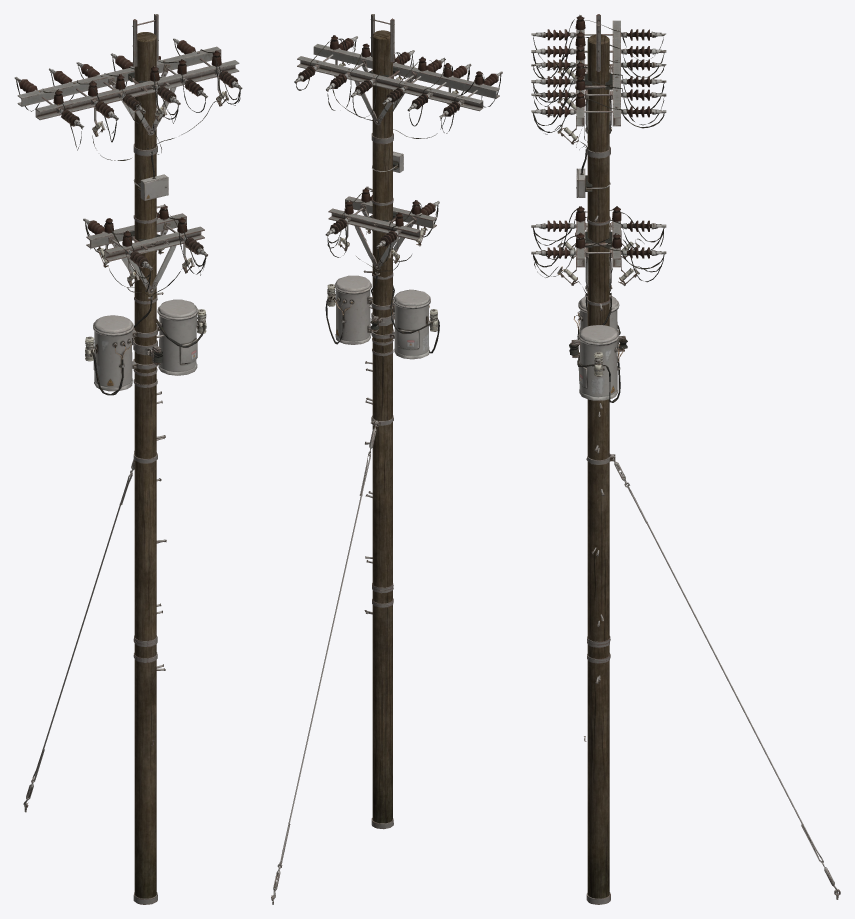
The model's file is modular_electricity_poles.glb.
The picture shows the model from 3 angles, left to right: view 1: azimuth 30°, elevation 25°; view 2: azimuth 150°, elevation 25°; view 3: azimuth 270°, elevation 25°; orthographic projection. The views are drawn at different scales.
Parts seen in each view (by area): view 1: pole_transformer_LOD0, pole_offset_LOD0, pole_plain_LOD0; view 2: pole_transformer_LOD0, pole_offset_LOD0, pole_plain_LOD0; view 3: pole_transformer_LOD0, pole_offset_LOD0, pole_plain_LOD0.
Boxes of the visible parts, x1=… form: pole_transformer_LOD0: x1=23, y1=14, x2=240, y2=904; pole_offset_LOD0: x1=14, y1=56, x2=207, y2=898; pole_plain_LOD0: x1=49, y1=20, x2=242, y2=904; pole_transformer_LOD0: x1=271, y1=14, x2=471, y2=904; pole_offset_LOD0: x1=325, y1=21, x2=502, y2=823; pole_plain_LOD0: x1=294, y1=20, x2=470, y2=829; pole_transformer_LOD0: x1=531, y1=14, x2=840, y2=904; pole_offset_LOD0: x1=531, y1=15, x2=666, y2=904; pole_plain_LOD0: x1=531, y1=20, x2=666, y2=903.
Size of what is drawn, in the model's own units: 1.45 by 6.13 by 1.95.
Materials: 2 (2 with a texture image).
